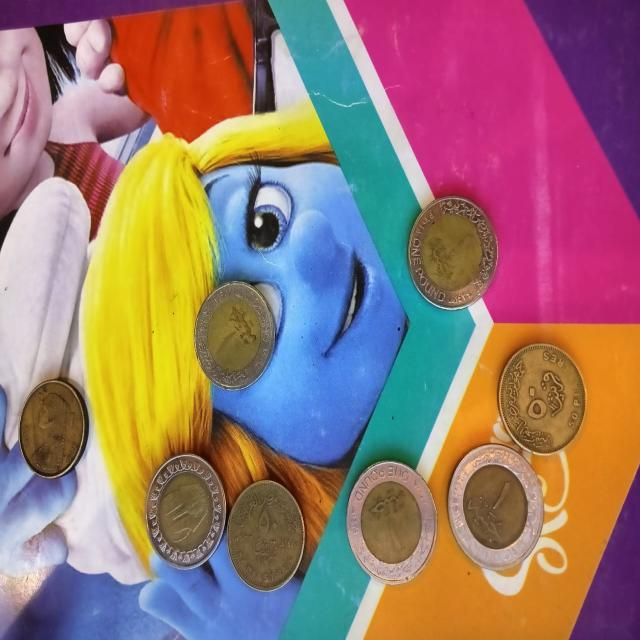Half Pound: (499, 339, 589, 461), (227, 474, 310, 590), (15, 373, 94, 482)
One Pound: (404, 182, 500, 328), (451, 446, 547, 566), (142, 446, 226, 583), (190, 275, 281, 401), (347, 462, 438, 580)
